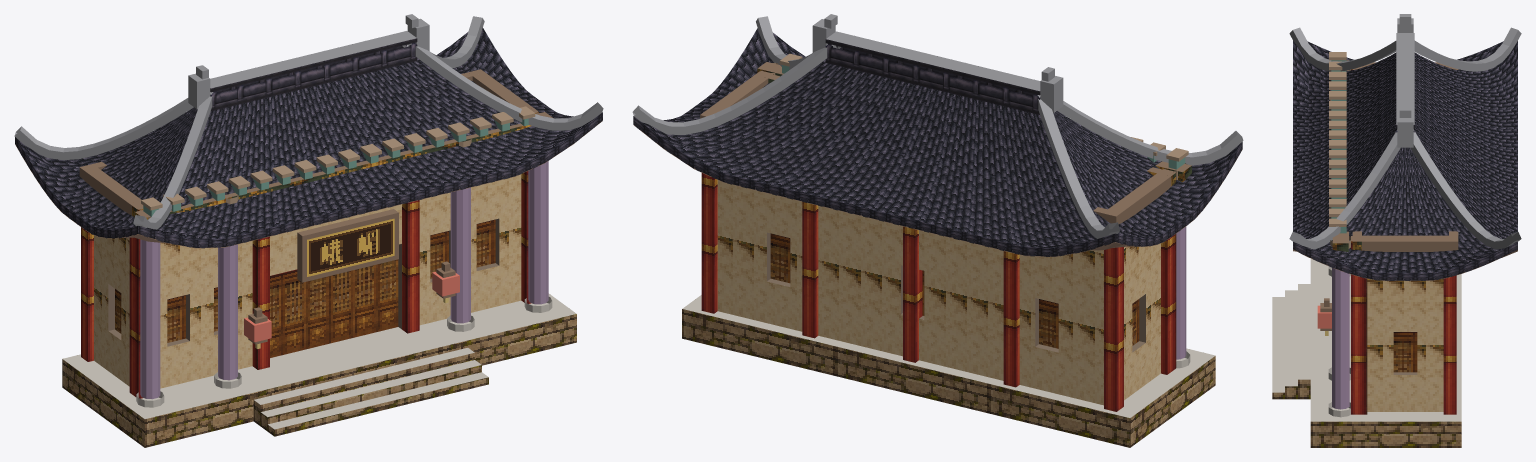
The model's file is g_emei_shop_green.glb.
3 views of the same model, side by side, from view 1: azimuth 30°, elevation 25°; view 2: azimuth 150°, elevation 25°; view 3: azimuth 270°, elevation 25° (orthographic). The views are drawn at different scales.
Visible parts, largest first — view 1: roof, plaster, stonetop, stone, col, ridgeend, door, post, wood, eave, ridge, woodl (+7 smaller); view 2: roof, plaster, stone, post, ridgeend, eave, ridge, stonetop, wood, win, col, reveal (+1 smaller); view 3: roof, stonetop, plaster, ridgeend, stone, post, woodl, col, wood, eave, win, dougong (+1 smaller).
Part boxes in pixels (<box>): roof: <box>16,28,602,239</box>; plaster: <box>94,174,521,388</box>; stonetop: <box>62,293,576,429</box>; stone: <box>62,314,576,447</box>; col: <box>140,161,548,399</box>; ridgeend: <box>14,14,603,229</box>; door: <box>270,259,398,357</box>; post: <box>81,112,538,398</box>; wood: <box>79,69,553,344</box>; eave: <box>15,112,602,248</box>; ridge: <box>210,38,417,111</box>; woodl: <box>140,106,539,219</box>; roof: <box>633,28,1240,248</box>; plaster: <box>717,180,1160,405</box>; stone: <box>682,309,1215,447</box>; post: <box>701,74,1176,411</box>; ridgeend: <box>632,14,1243,238</box>; eave: <box>633,116,1242,256</box>; ridge: <box>825,39,1040,114</box>; stonetop: <box>682,295,1215,417</box>; wood: <box>700,62,1191,224</box>; win: <box>770,233,1139,348</box>; col: <box>1176,226,1186,359</box>; reveal: <box>767,232,1145,352</box>; roof: <box>1293,41,1517,273</box>; stonetop: <box>1272,258,1461,421</box>; plaster: <box>1367,278,1443,411</box>; ridgeend: <box>1289,14,1521,249</box>; stone: <box>1272,379,1461,447</box>; post: <box>1351,69,1456,414</box>; woodl: <box>1329,52,1350,248</box>; col: <box>1332,268,1349,409</box>; wood: <box>1320,60,1458,330</box>; eave: <box>1293,242,1517,280</box>; win: <box>1393,332,1417,372</box>; dougong: <box>1331,60,1346,233</box>.
Bounding box in the file's own units: 85.79 × 54.91 × 43.02.
20 materials, 10 textured.
